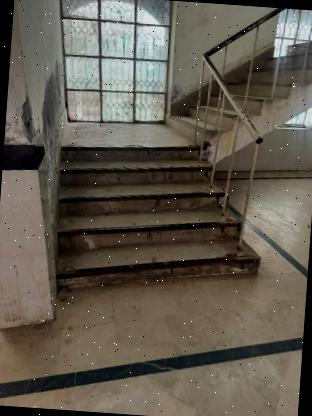stair: (46, 112, 258, 295)
